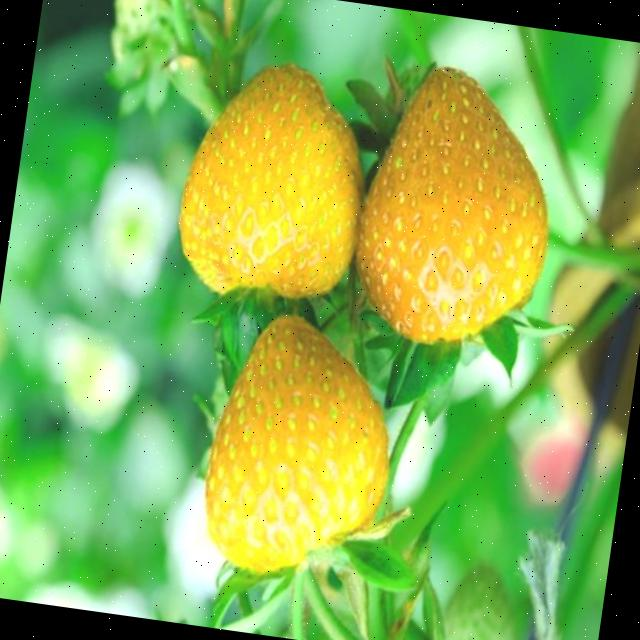strawberry: (355, 67, 547, 343), (204, 315, 388, 572), (178, 64, 362, 297)
